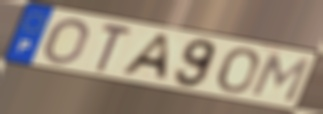9: (171, 38, 219, 90)
A: (117, 32, 171, 83)
M: (248, 51, 313, 105)
O: (41, 16, 92, 66), (216, 46, 261, 94)
T: (95, 21, 135, 75)
